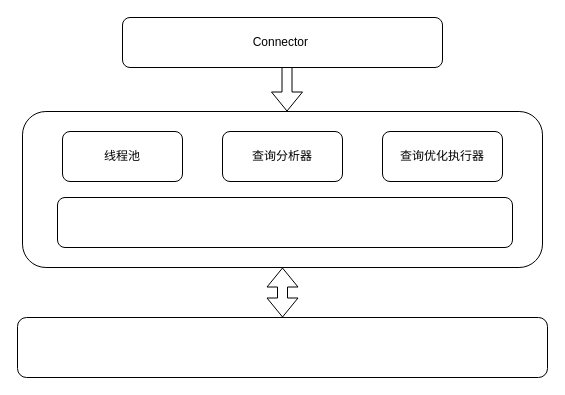
The diagram is 565 pixels wide and 395 high, and some of its shapes have lost their labels. The box of each missing label's shape, as (x1, y1, x2, y2) in pixels:
事务系统: (56, 196, 512, 248)
存储系统: (16, 316, 548, 378)
